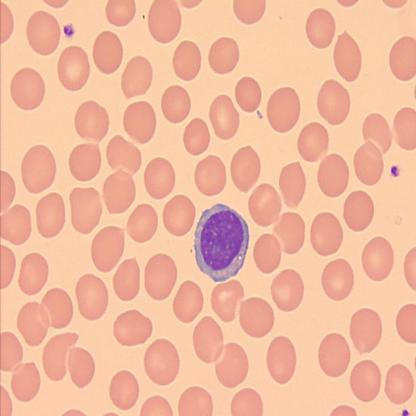Lymphocyte: (193, 201, 250, 283)
